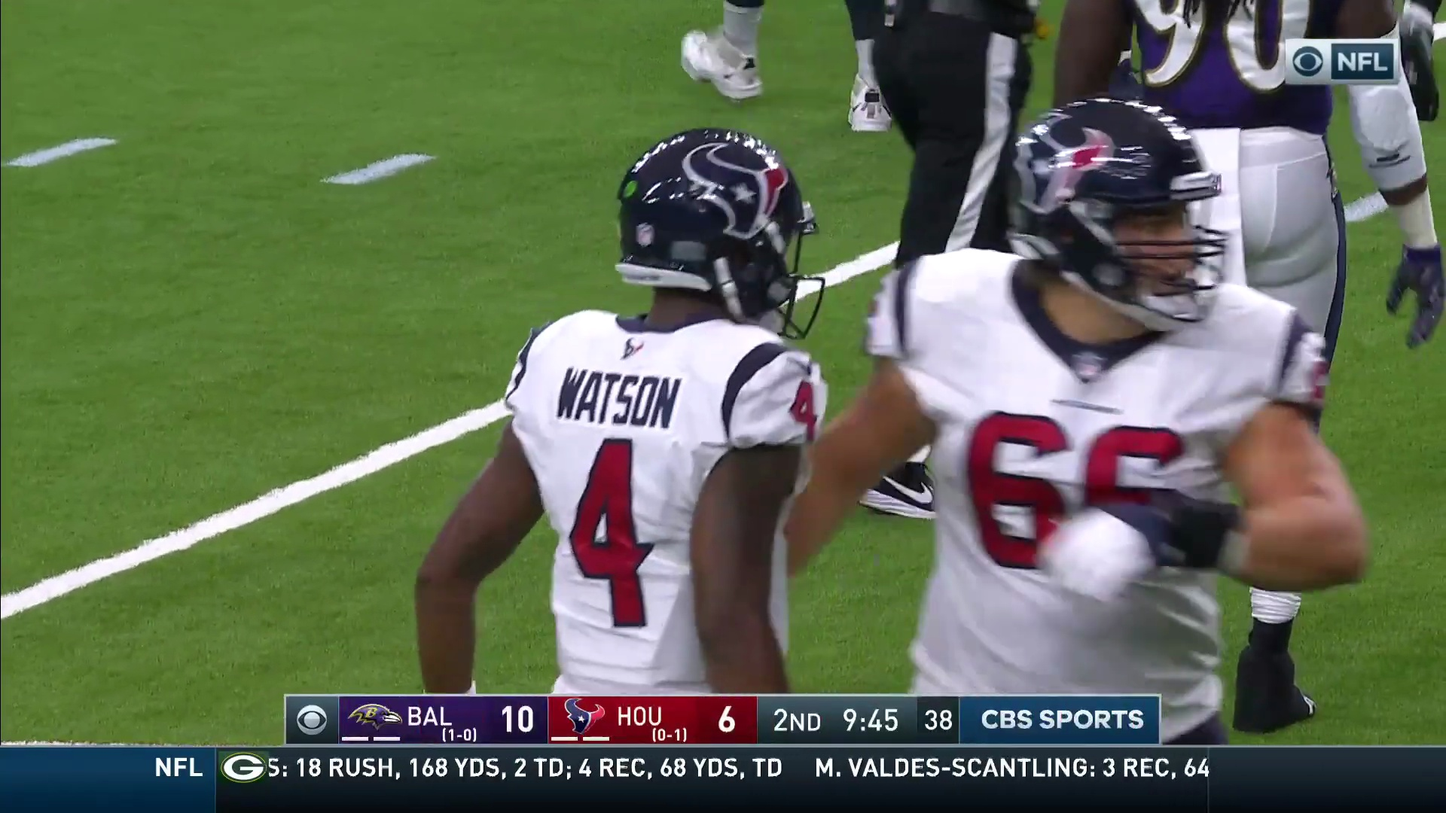Player: (846, 112, 1350, 649), (469, 204, 854, 722)
